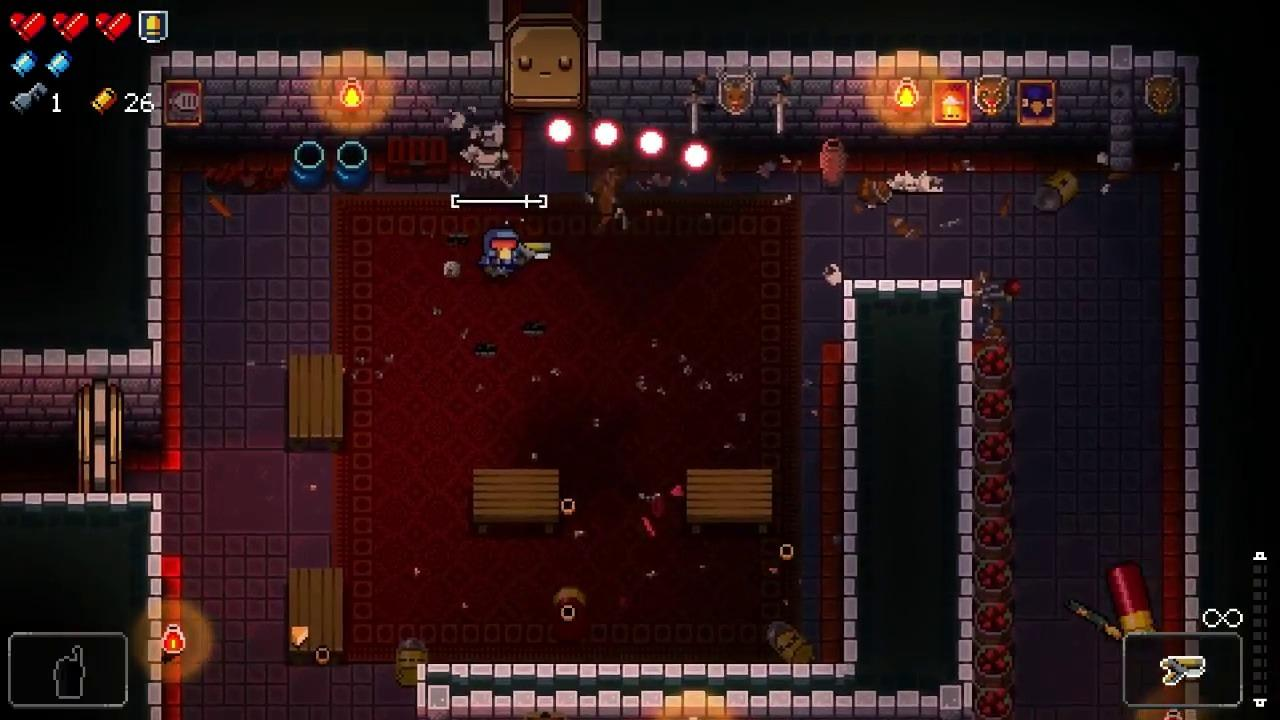bullet: (679, 140, 712, 172), (591, 118, 621, 148), (637, 128, 666, 156), (545, 118, 574, 142)
dead_bullet_kin: (766, 620, 816, 664), (395, 636, 429, 687)
dead_red_shotgun_kin: (552, 585, 589, 643)
locked_door: (505, 14, 587, 108), (77, 380, 121, 492)
player: (482, 229, 520, 281)
red_shotgun_kin: (1106, 561, 1158, 638)
table: (472, 468, 559, 537), (287, 567, 345, 665), (686, 468, 772, 533), (287, 353, 344, 450)
